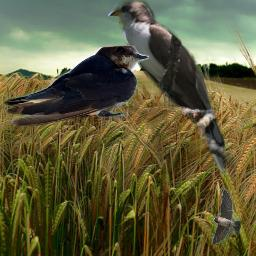Cuckoo: (108, 0, 241, 175)
Swallow: (3, 45, 149, 127), (212, 189, 241, 244)
